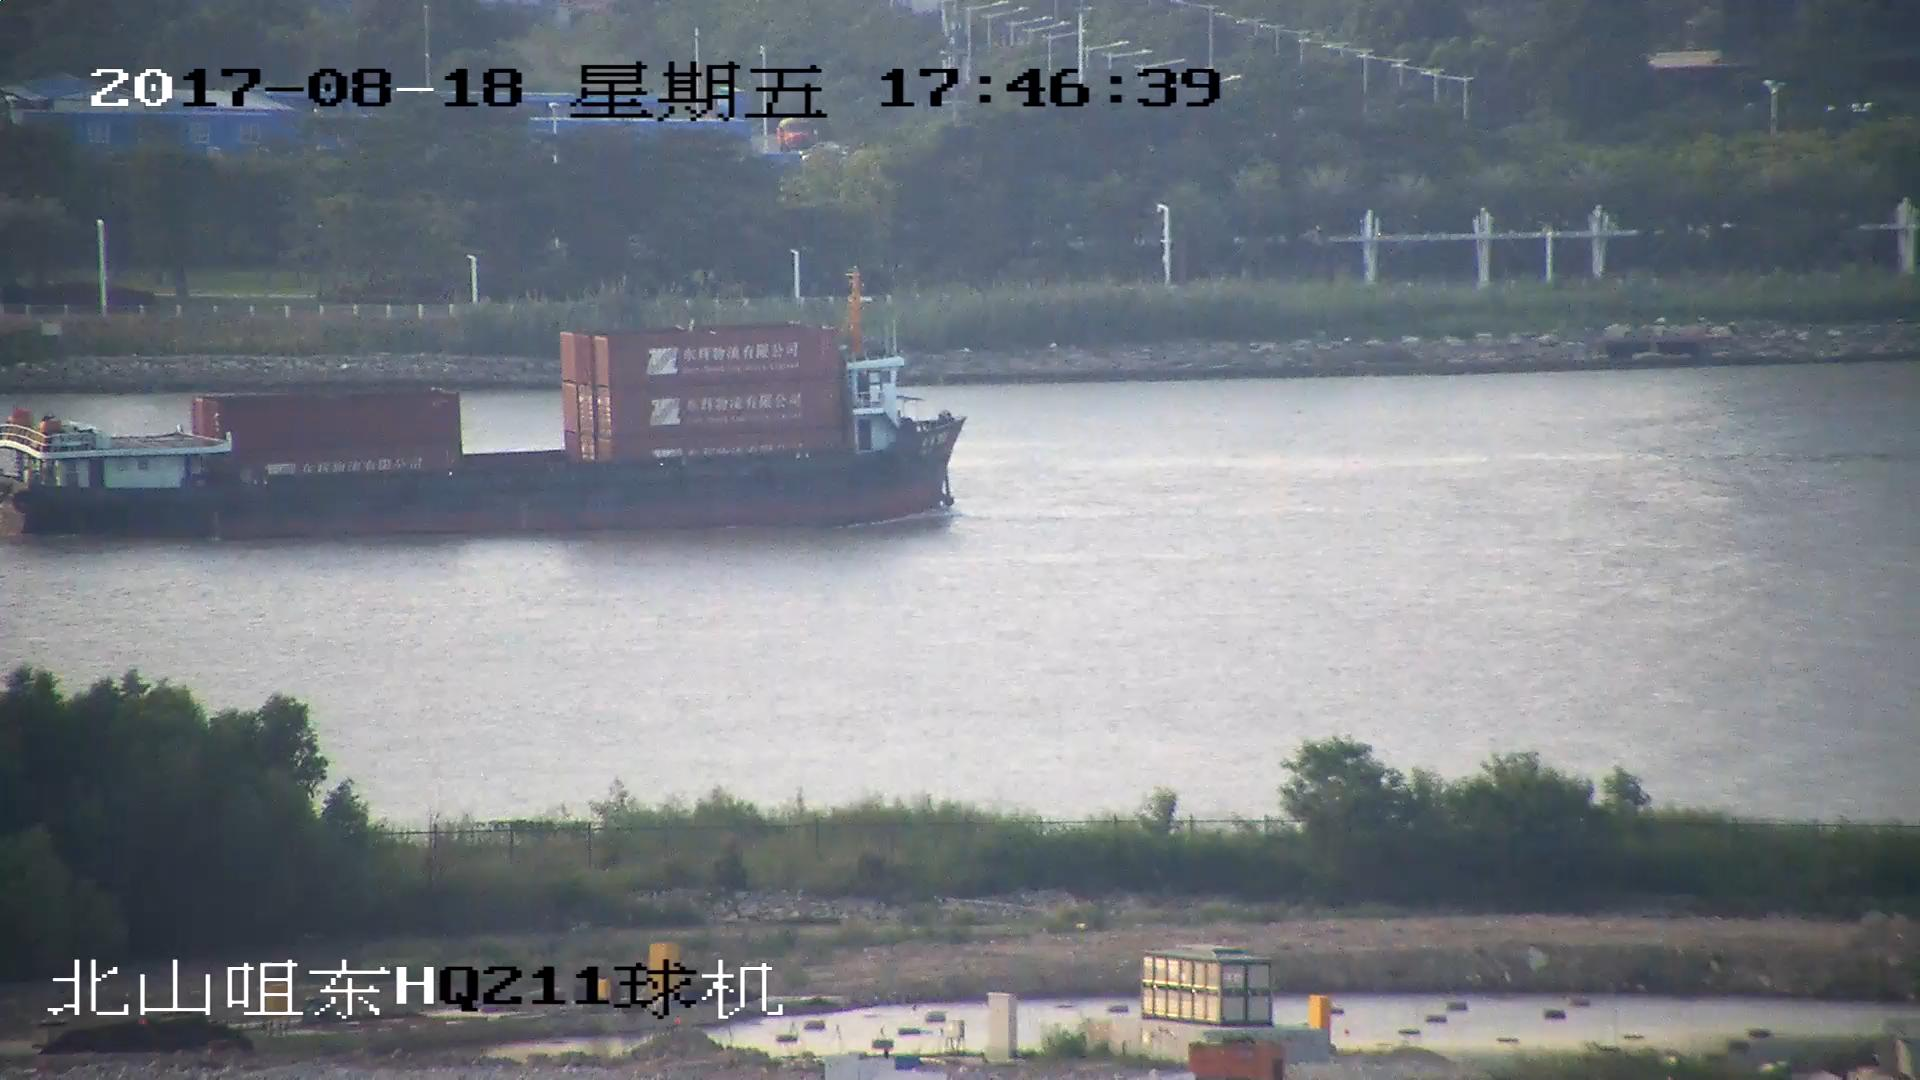container ship: (1, 271, 957, 541)
